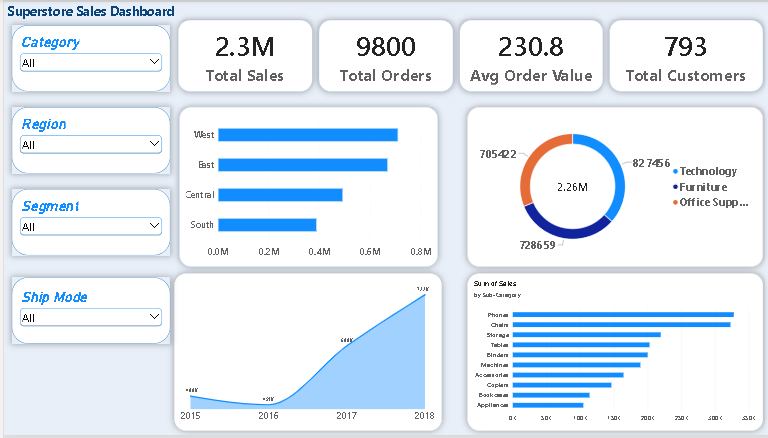

Layout of this report page (visuals, bound fields, positions):
{"tool":"powerbi","page":{"name":"Page 1","canvas":[1920,1080],"ordinal":0},"visuals":[{"type":"card","fields":{"Values":["Sum(cleaned_superstore.Sales)"]},"box":[434.6,44.7,335.5,178.9],"z":0},{"type":"clusteredBarChart","fields":{"Category":["cleaned_superstore.Region"],"Y":["Sum(cleaned_superstore.Sales)"]},"box":[437.8,262,645.5,399.4],"z":4000},{"type":"donutChart","fields":{"Category":["cleaned_superstore.Category"],"Y":["Sum(cleaned_superstore.Sales)"]},"box":[1156.7,262,738.1,399.4],"z":5000},{"type":"lineChart","fields":{"Category":["cleaned_superstore.Order Date.Variation.Date Hierarchy.Year","cleaned_superstore.Order Date.Variation.Date Hierarchy.Month"],"Y":["Sum(cleaned_superstore.Sales)"]},"box":[425,677.4,667.8,393],"z":6000},{"type":"clusteredBarChart","fields":{"Category":["cleaned_superstore.Sub-Category"],"Y":["Sum(cleaned_superstore.Sales)"]},"box":[1156.7,677.4,738.1,393],"z":7000},{"type":"textbox","box":[0,0,434.6,115],"z":8000},{"type":"shape","box":[19.2,57.5,396.2,166.2],"z":9000},{"type":"slicer","fields":{"Values":["cleaned_superstore.Category"]},"box":[35.1,79.9,364.3,121.4],"z":10000},{"type":"shape","box":[19.2,262,396.2,166.2],"z":11000},{"type":"slicer","fields":{"Values":["cleaned_superstore.Region"]},"box":[35.1,284.4,364.3,121.4],"z":12000},{"type":"shape","box":[19.2,466.5,396.2,166.2],"z":13000},{"type":"slicer","fields":{"Values":["cleaned_superstore.Segment"]},"box":[35.1,488.9,364.3,121.4],"z":14000},{"type":"shape","box":[19.2,687,396.2,166.2],"z":15000},{"type":"slicer","fields":{"Values":["cleaned_superstore.Ship Mode"]},"box":[35.1,715.8,364.3,105.4],"z":16000},{"type":"card","fields":{"Values":["CountNonNull(cleaned_superstore.Row ID)"]},"box":[786.1,44.7,335.5,178.9],"z":16001},{"type":"card","fields":{"Values":["Avg(cleaned_superstore.Sales)"]},"box":[1137.5,44.7,357.9,178.9],"z":16002},{"type":"card","fields":{"Values":["Count(cleaned_superstore.Customer Name)"]},"box":[1511.4,44.7,383.4,178.9],"z":16003}]}

Visuals, with their boxes in screenshot pixels (x1, y1, x2, y2), scaled from the page's 1920x1080 canvas onto the 768x438 screenshot:
card - Sum(cleaned_superstore.Sales): {"x1": 174, "y1": 18, "x2": 308, "y2": 91}
clusteredBarChart - cleaned_superstore.Region x Sum(cleaned_superstore.Sales): {"x1": 175, "y1": 106, "x2": 433, "y2": 268}
donutChart - cleaned_superstore.Category x Sum(cleaned_superstore.Sales): {"x1": 463, "y1": 106, "x2": 758, "y2": 268}
lineChart - cleaned_superstore.Order Date.Variation.Date Hierarchy.Year x cleaned_superstore.Order Date.Variation.Date Hierarchy.Month: {"x1": 170, "y1": 275, "x2": 437, "y2": 434}
clusteredBarChart - cleaned_superstore.Sub-Category x Sum(cleaned_superstore.Sales): {"x1": 463, "y1": 275, "x2": 758, "y2": 434}
textbox: {"x1": 0, "y1": 0, "x2": 174, "y2": 47}
shape: {"x1": 8, "y1": 23, "x2": 166, "y2": 91}
slicer - cleaned_superstore.Category: {"x1": 14, "y1": 32, "x2": 160, "y2": 82}
shape: {"x1": 8, "y1": 106, "x2": 166, "y2": 174}
slicer - cleaned_superstore.Region: {"x1": 14, "y1": 115, "x2": 160, "y2": 165}
shape: {"x1": 8, "y1": 189, "x2": 166, "y2": 257}
slicer - cleaned_superstore.Segment: {"x1": 14, "y1": 198, "x2": 160, "y2": 248}
shape: {"x1": 8, "y1": 279, "x2": 166, "y2": 346}
slicer - cleaned_superstore.Ship Mode: {"x1": 14, "y1": 290, "x2": 160, "y2": 333}
card - CountNonNull(cleaned_superstore.Row ID): {"x1": 314, "y1": 18, "x2": 449, "y2": 91}
card - Avg(cleaned_superstore.Sales): {"x1": 455, "y1": 18, "x2": 598, "y2": 91}
card - Count(cleaned_superstore.Customer Name): {"x1": 605, "y1": 18, "x2": 758, "y2": 91}
